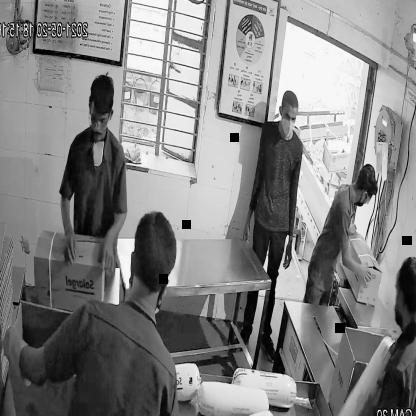goggles: (87, 107, 113, 132)
no_goggles: (281, 110, 299, 123)
